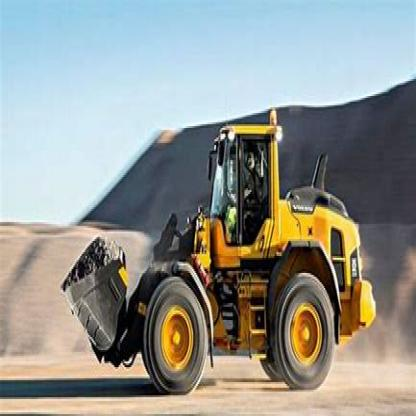bull_dozer/loader/grader: (58, 111, 376, 405)
